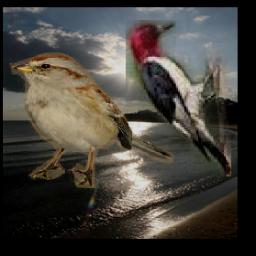Sparrow: (10, 52, 174, 188)
Woodpecker: (127, 21, 232, 177)
